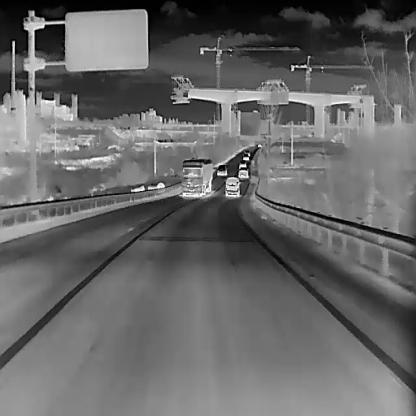car: (180, 156, 212, 196), (224, 176, 239, 198), (237, 166, 248, 178), (216, 163, 226, 175), (238, 159, 245, 167), (242, 152, 247, 159), (243, 149, 249, 154)
